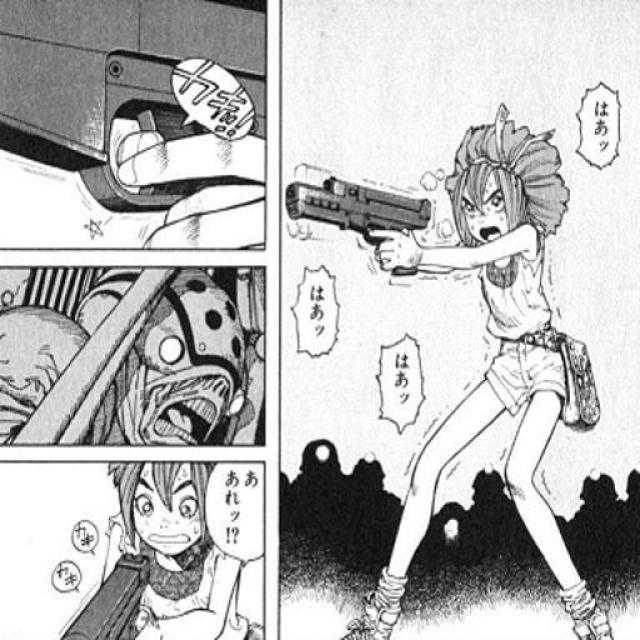pistol: (290, 161, 432, 281)
